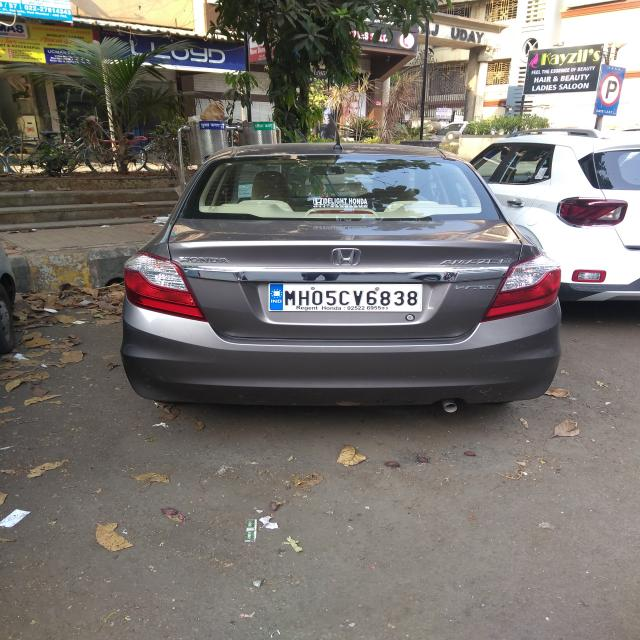Number-Plate: (273, 282, 422, 312)
